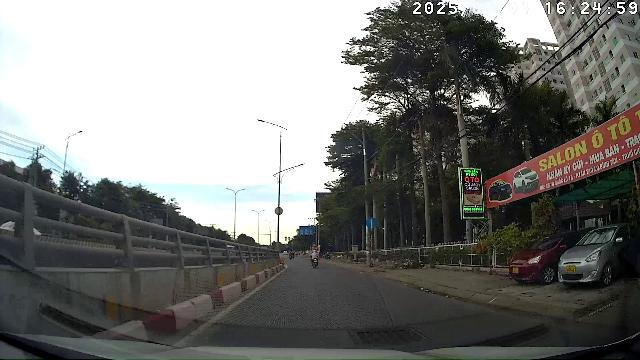301a-cac-xe-chi-duoc-di-thang: (367, 217, 378, 229)
